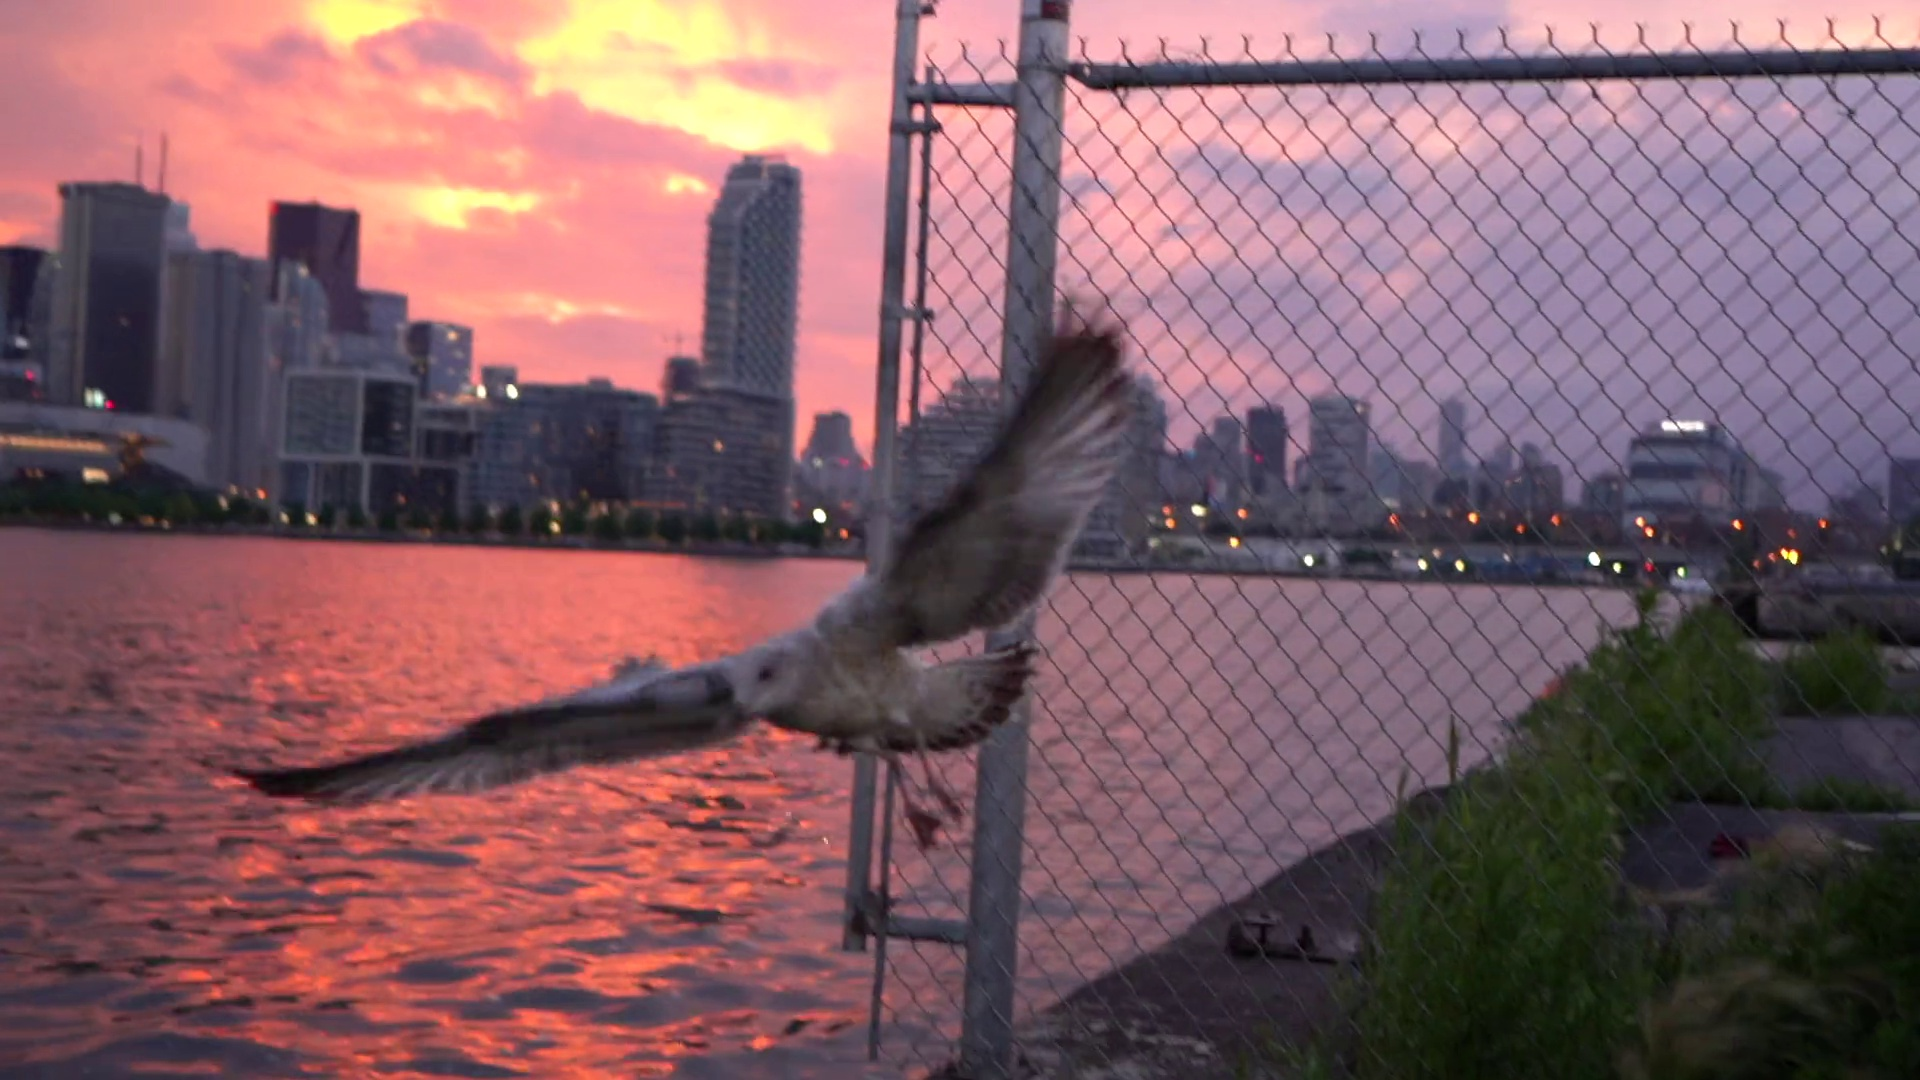bird: (232, 305, 1147, 848)
